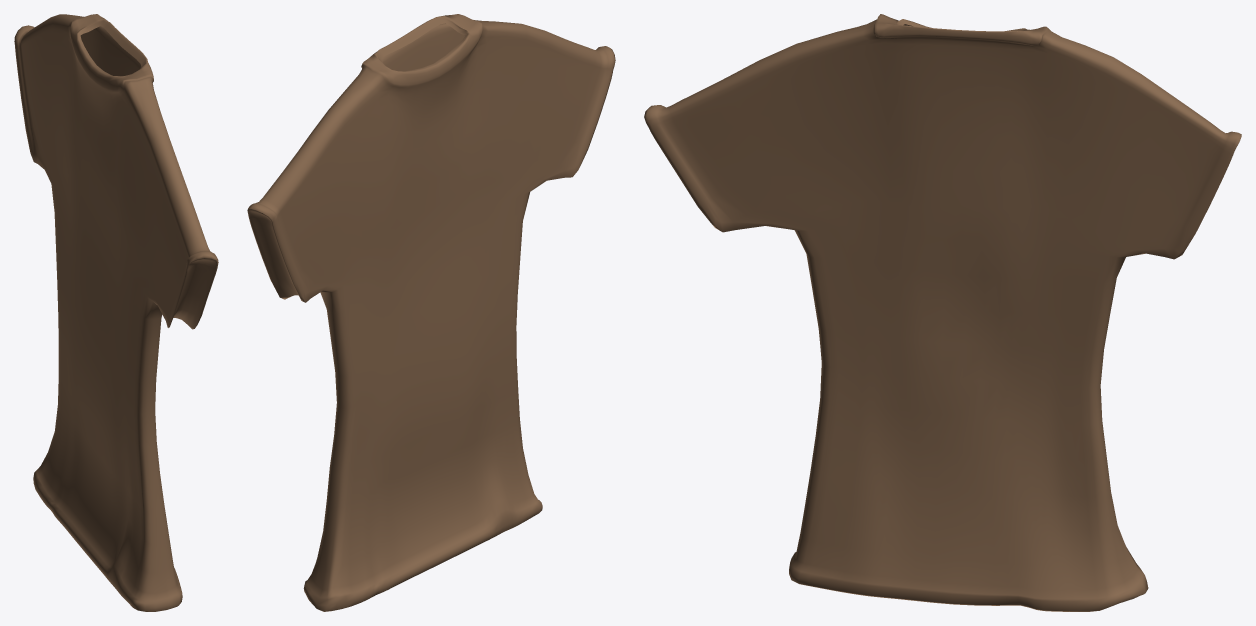
File: 3DGAME_Brown_Shirt.fbx
3 views of the same model, side by side, from view 1: azimuth 30°, elevation 25°; view 2: azimuth 150°, elevation 25°; view 3: azimuth 270°, elevation 25° (orthographic). The views are drawn at different scales.
Visible parts, largest first — view 1: pCube1; view 2: pCube1; view 3: pCube1.
Part boxes in pixels (bbox=[...]): pCube1: bbox=[14, 14, 218, 611]; pCube1: bbox=[247, 14, 615, 611]; pCube1: bbox=[644, 14, 1241, 611].
Bounding box in the file's own units: 0.1964 × 0.9058 × 0.8662.
